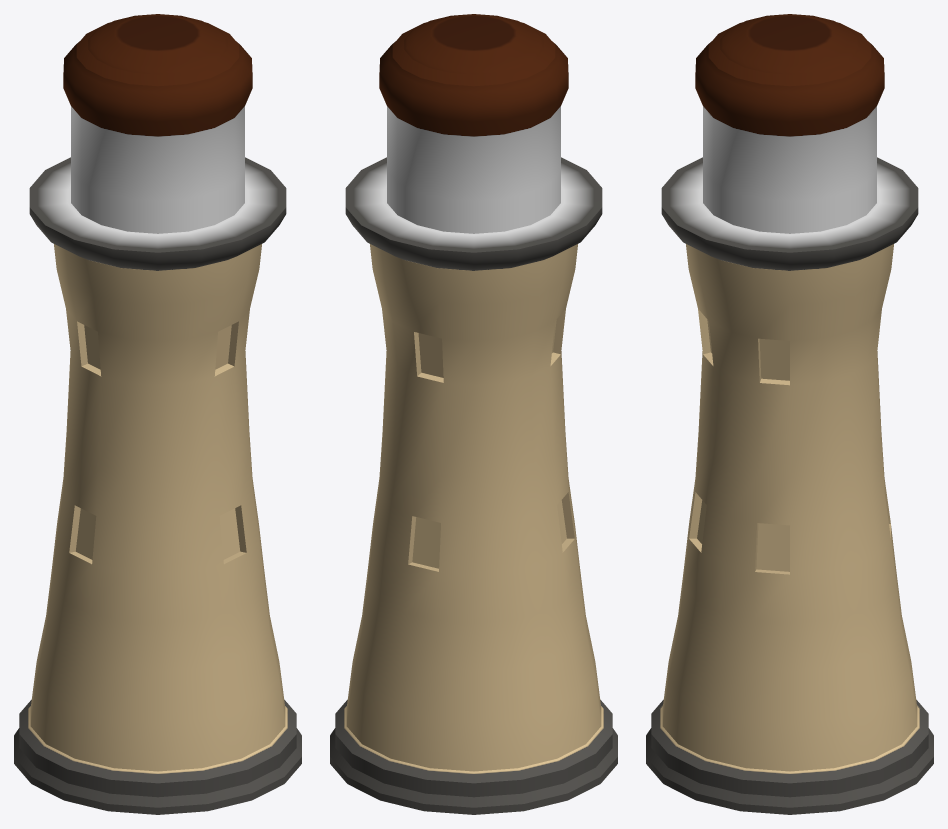
File: Lighthouse asset.fbx
3 views of the same model, side by side, from view 1: azimuth 30°, elevation 25°; view 2: azimuth 150°, elevation 25°; view 3: azimuth 270°, elevation 25° (orthographic).
Visible parts, largest first — view 1: Cylinder001; view 2: Cylinder001; view 3: Cylinder001.
Boxes of the visible parts, x1=… form: Cylinder001: x1=14, y1=14, x2=301, y2=814; Cylinder001: x1=330, y1=14, x2=617, y2=814; Cylinder001: x1=646, y1=14, x2=933, y2=814.
Bounding box in the file's own units: 85.61 × 233 × 84.31.
Materials: 1 (1 with a texture image).
